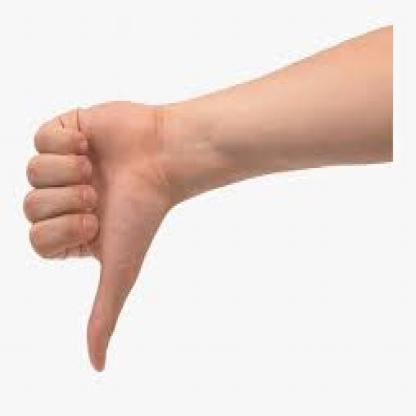thumb_down: (18, 94, 156, 378)
